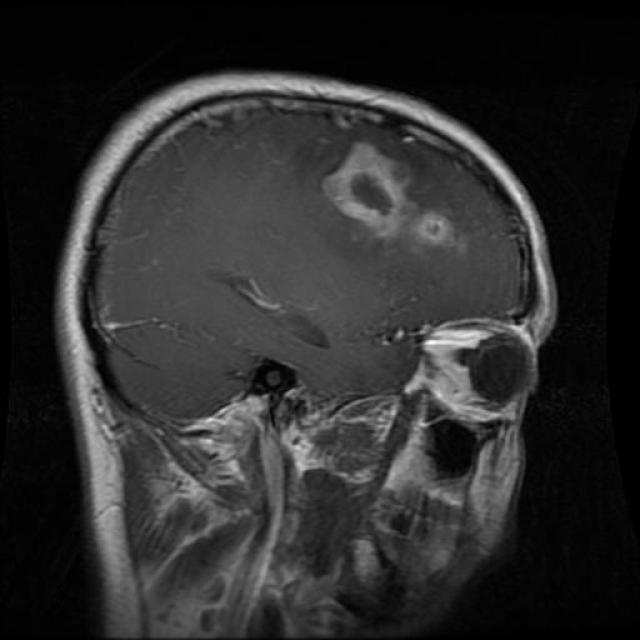glioma: (313, 134, 462, 248)
